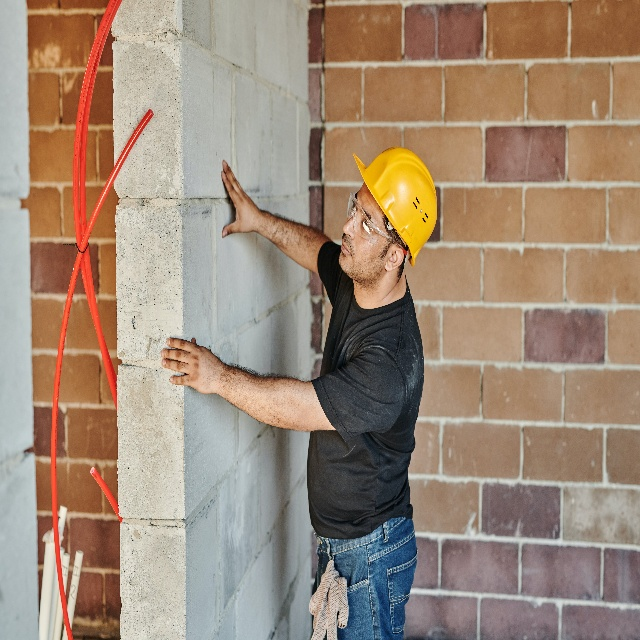Gafas: (347, 191, 410, 259)
Guantes: (310, 560, 349, 640)
Sin_guantes: (161, 336, 218, 395), (221, 159, 259, 239)
